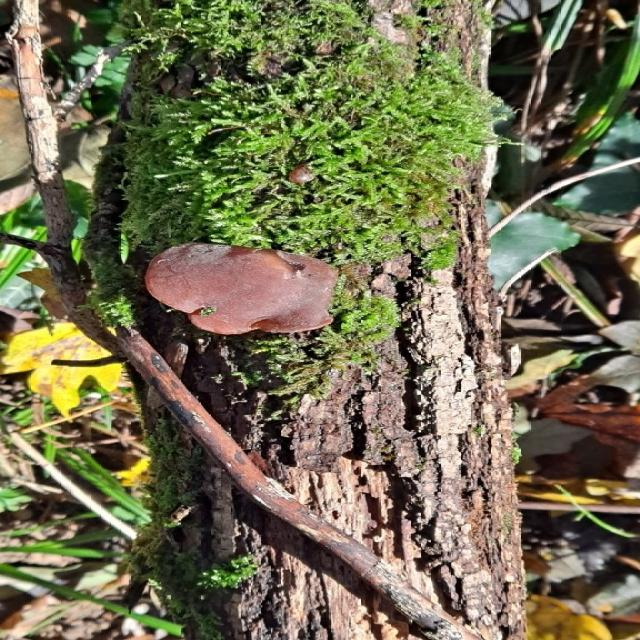Matang: (135, 239, 348, 341)
